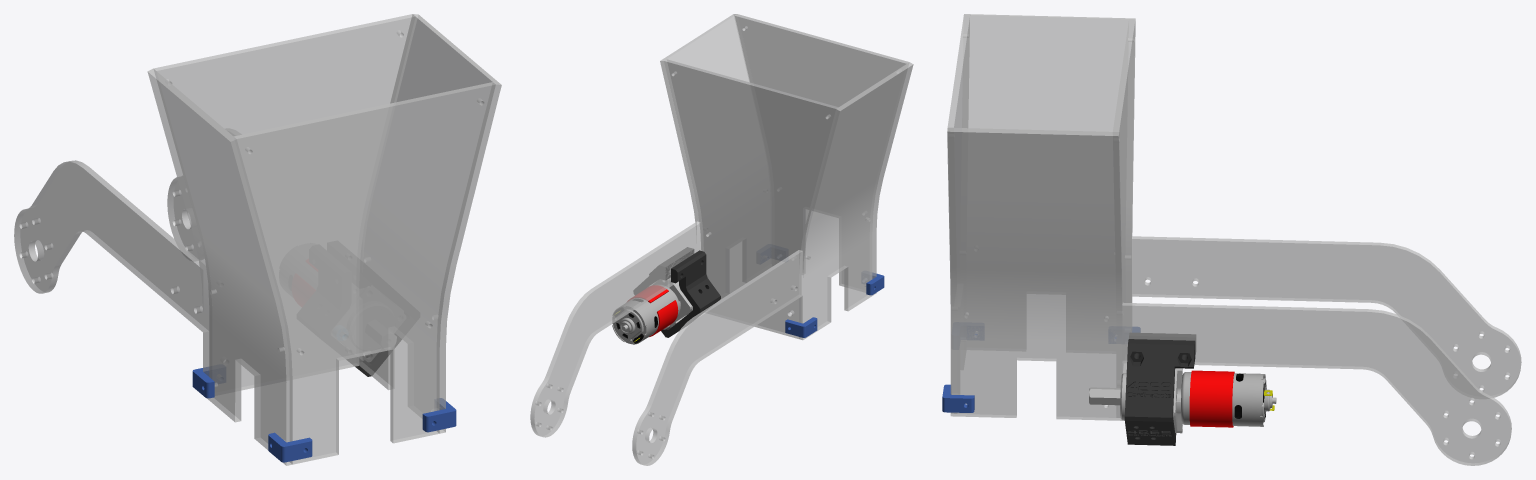
3 views of the same model, side by side, from view 1: azimuth 30°, elevation 25°; view 2: azimuth 150°, elevation 25°; view 3: azimuth 270°, elevation 25° (orthographic). The views are drawn at different scales.
Parts seen in each view (by area): view 1: Side Plate (×2), Back Plate, Front Plate, Bottom Bracket (×3), Redline Mount; view 2: Side Plate (×2), Back Plate, Front Plate, Redline Mount, redline, Bottom Bracket, am-3765 - 57 Sport Motor Block; view 3: Side Plate (×2), Redline Mount, Back Plate, Front Plate, redline, Bottom Bracket.
Boxes of the visible parts, x1,y1,x2,y2 form: Side Plate (×2): (14,14,501,465); Back Plate: (153,14,415,395); Front Plate: (234,82,495,464); Bottom Bracket (×3): (192,367,456,462); Redline Mount: (346,334,401,376); Side Plate (×2): (530,14,913,465); Back Plate: (664,59,838,338); Front Plate: (735,14,909,292); Redline Mount: (633,247,720,337); redline: (612,285,679,344); Bottom Bracket: (785,317,817,337); am-3765 - 57 Sport Motor Block: (653,278,692,329); Side Plate (×2): (947,14,1521,465); Redline Mount: (1124,333,1195,445); Back Plate: (1113,19,1135,417); Front Plate: (947,15,970,413); redline: (1181,370,1276,427); Bottom Bracket: (942,384,974,412).
Size of the model in its own units: 0.2372 by 0.3052 by 0.462.
